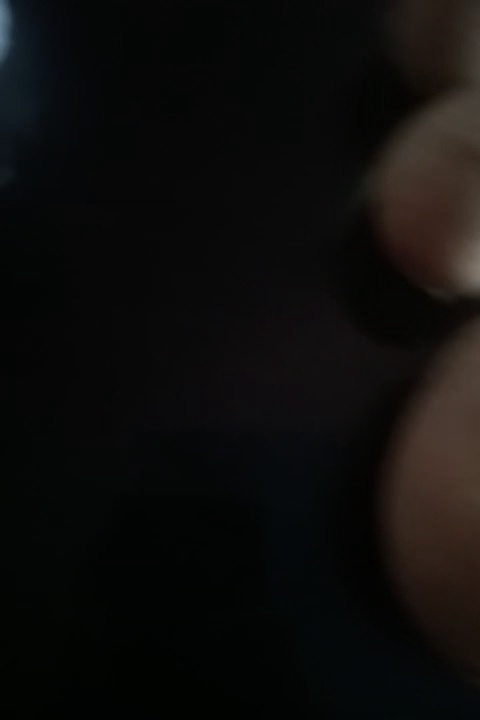potato: (402, 323, 480, 642)
